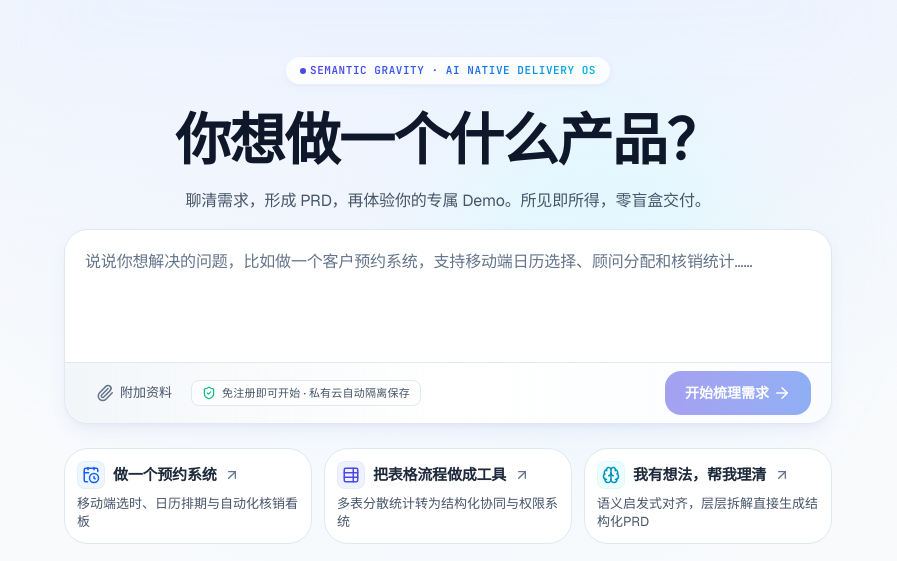
Test: HomeHero（首页 P01 照原型） › 示例 chip 点击填入全文：点「把表格流程做成工具」同样填入完整需求句
Click the button "把表格流程做成工具 多表分散统计转为结构化协同与权限系统" at (448, 496), box 324,448 -> 572,544
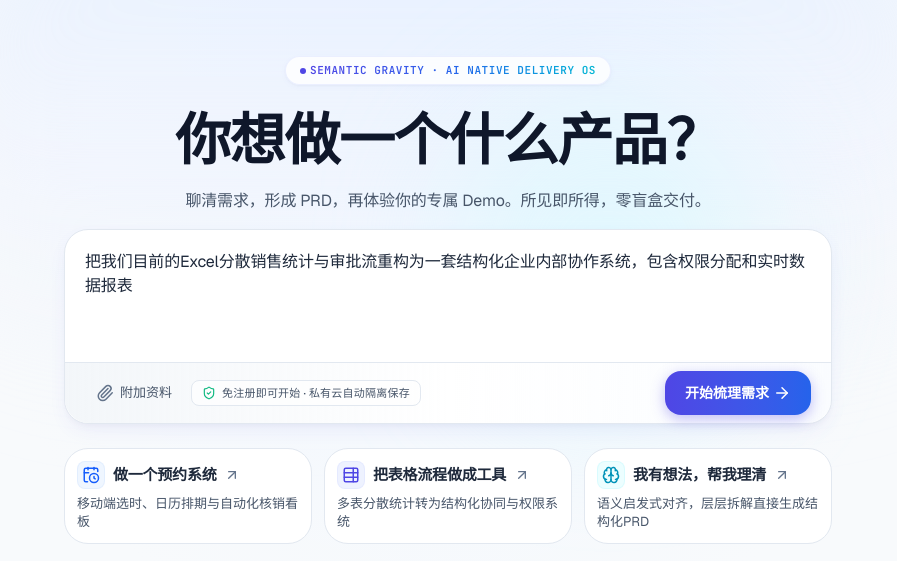
Expected: the text box with placeholder "说说你想解决的问题，比如做一个客户预约系统，支持移动端日历选择、顾问分配和核销统计……" holds "把我们目前的Excel分散销售统计与审批流重构为一套结构化企业内部协作系统，包含权限分配和实时数据报表", 85,250 -> 811,346
